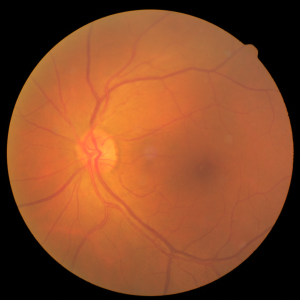cataract: (48, 91, 251, 210)
